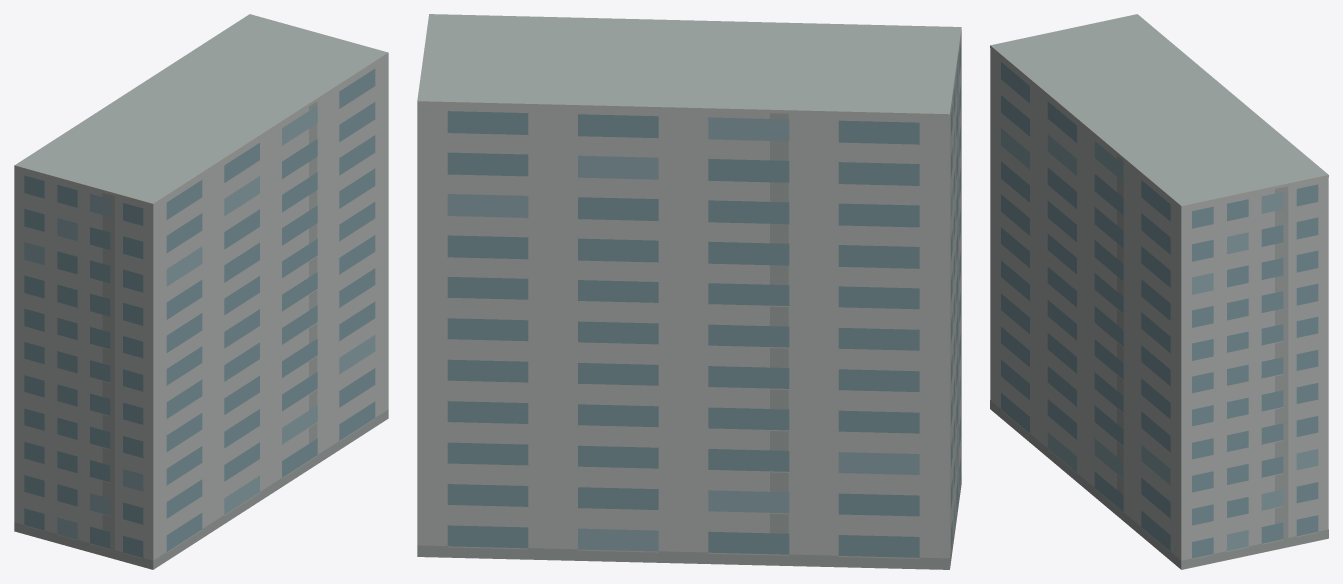
The model's file is residential-029cd98a-a23d-4b68-abe5-07945502ab59.glb.
3 views of the same model, side by side, from view 1: azimuth 30°, elevation 25°; view 2: azimuth 150°, elevation 25°; view 3: azimuth 270°, elevation 25° (orthographic). The views are drawn at different scales.
Visible parts, largest first — view 1: residential-029cd98a-a23d-4b68-abe5-07945502ab59.tmp; view 2: residential-029cd98a-a23d-4b68-abe5-07945502ab59.tmp; view 3: residential-029cd98a-a23d-4b68-abe5-07945502ab59.tmp.
Boxes of the visible parts, x1,y1,x2,y2 form: residential-029cd98a-a23d-4b68-abe5-07945502ab59.tmp: [14, 14, 388, 569]; residential-029cd98a-a23d-4b68-abe5-07945502ab59.tmp: [417, 14, 961, 569]; residential-029cd98a-a23d-4b68-abe5-07945502ab59.tmp: [990, 14, 1328, 569].
Size of the model in its own units: 36.25 by 32 by 27.
